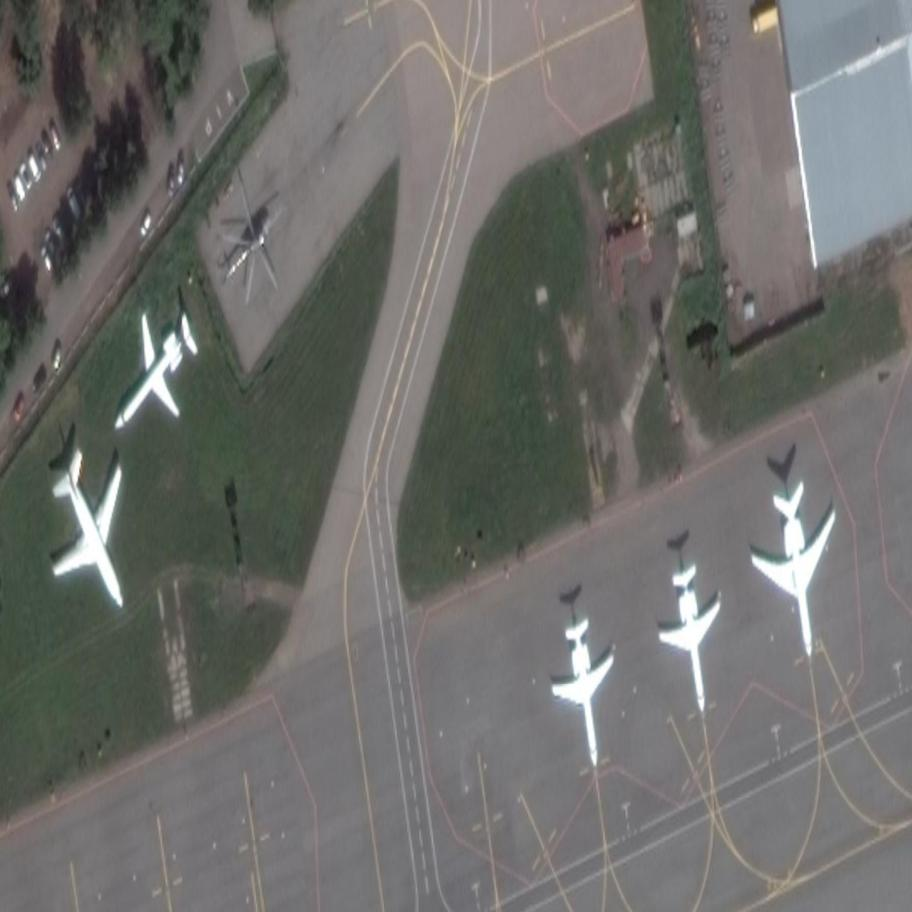plane: (6, 382, 181, 687), (91, 254, 221, 501), (742, 463, 851, 671), (202, 147, 298, 352), (649, 546, 734, 729), (543, 600, 626, 776)
small-vehicle: (9, 390, 32, 428), (28, 360, 52, 396), (64, 185, 85, 225), (16, 158, 36, 196), (45, 116, 65, 153), (48, 212, 69, 246), (11, 169, 29, 207), (38, 126, 57, 162), (33, 137, 50, 175), (25, 151, 44, 184), (37, 241, 55, 275), (42, 226, 60, 260), (137, 206, 153, 242), (5, 181, 20, 217), (177, 143, 185, 185), (53, 338, 63, 371), (168, 157, 175, 199)
